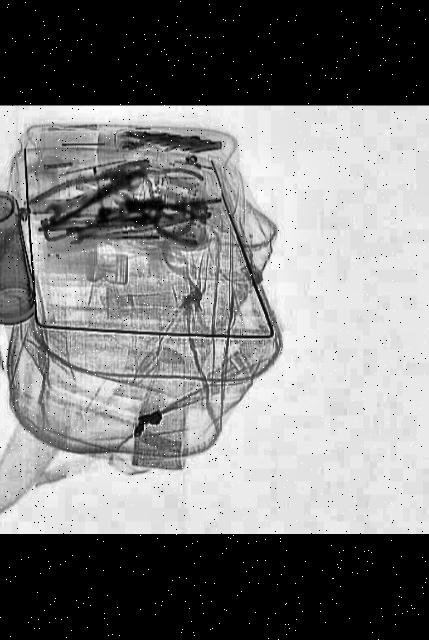Pliers: (18, 146, 163, 236), (114, 148, 211, 217)
